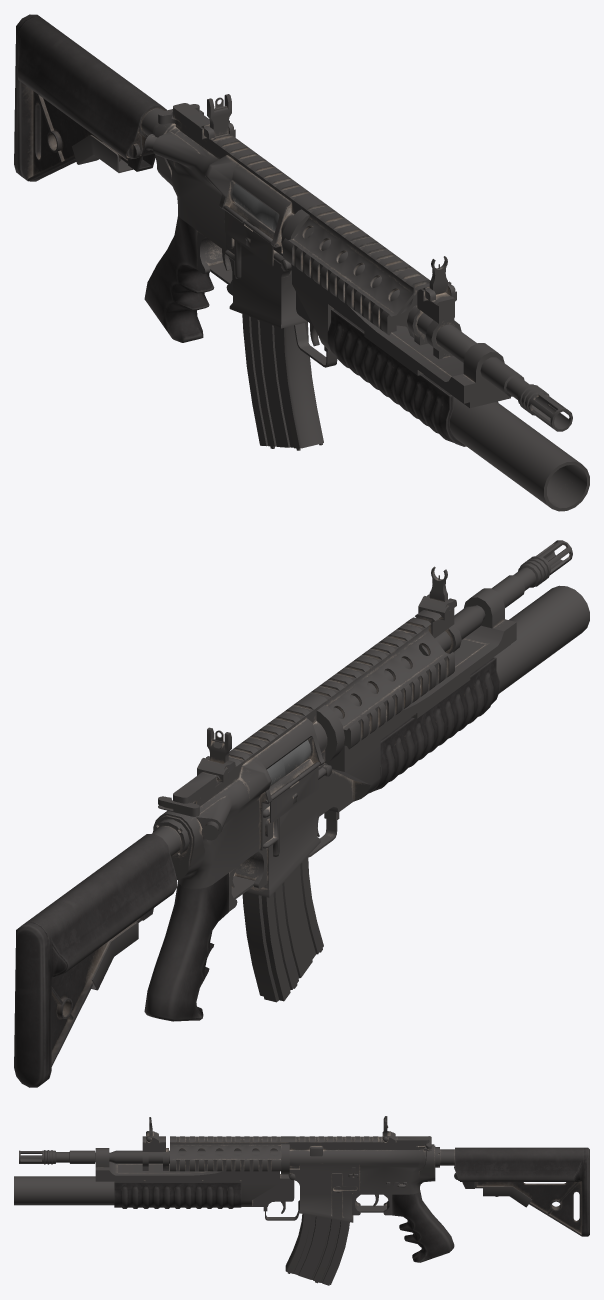
3 renders of one model, top to bottom at view 1: azimuth 30°, elevation 25°; view 2: azimuth 150°, elevation 25°; view 3: azimuth 270°, elevation 25°, orthographic. The views are drawn at different scales.
Parts seen in each view (by area): view 1: M44A1_Body001, M203_Barrel, M203_Body, M4A1_Magazine001_UV_M4A1_0, M4A1_Bolt001; view 2: M44A1_Body001, M203_Barrel, M203_Body, M4A1_Magazine001_UV_M4A1_0, M4A1_Bolt001; view 3: M44A1_Body001, M203_Barrel, M203_Body, M4A1_Magazine001_UV_M4A1_0.
Part boxes in pixels (x1,y1,x2,y2): M44A1_Body001: (14,14,572,431); M203_Barrel: (327,308,589,511); M203_Body: (292,265,510,408); M4A1_Magazine001_UV_M4A1_0: (242,314,323,450); M4A1_Bolt001: (232,183,279,231); M44A1_Body001: (14,540,572,1087); M203_Barrel: (370,585,589,792); M203_Body: (308,588,516,857); M4A1_Magazine001_UV_M4A1_0: (242,856,323,1002); M4A1_Bolt001: (267,739,311,786); M44A1_Body001: (19,1116,589,1262); M203_Barrel: (14,1176,241,1208); M203_Body: (95,1148,299,1220); M4A1_Magazine001_UV_M4A1_0: (285,1214,349,1285).
Size of the model in its own units: 7.41 by 30.8 by 97.41.
Materials: 2 (2 with a texture image).
